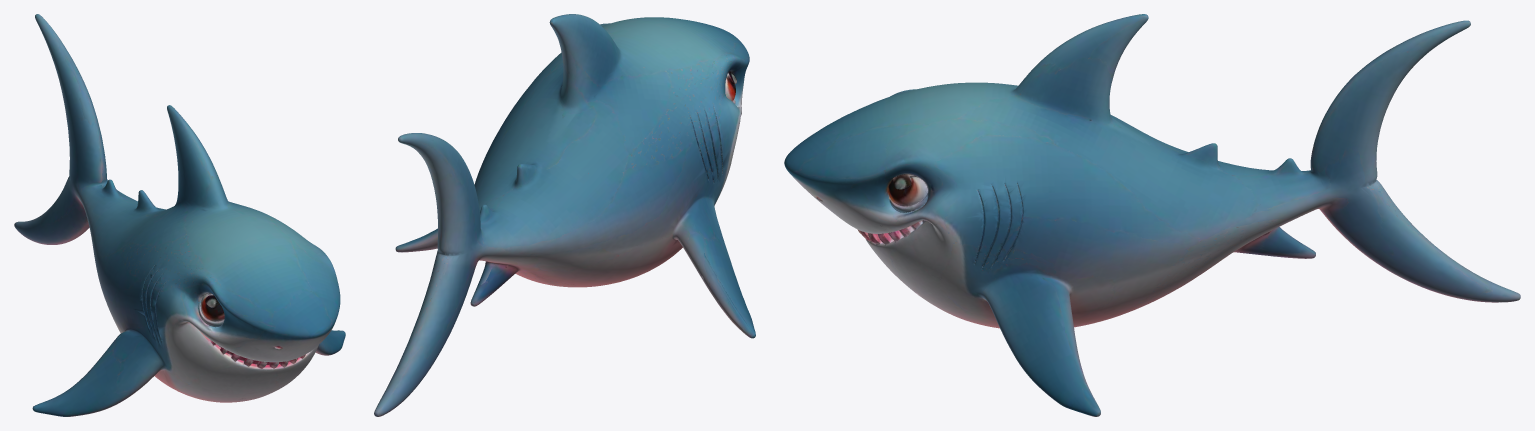
Rendered from shark-BO7wx5-a.glb.
3 views of the same model, side by side, from view 1: azimuth 30°, elevation 25°; view 2: azimuth 150°, elevation 25°; view 3: azimuth 270°, elevation 25° (orthographic). The views are drawn at different scales.
Visible parts, largest first — view 1: texture_pbr_v128; view 2: texture_pbr_v128; view 3: texture_pbr_v128.
Boxes of the visible parts, x1,y1,x2,y2 form: texture_pbr_v128: (14, 14, 345, 416); texture_pbr_v128: (374, 14, 755, 416); texture_pbr_v128: (784, 14, 1520, 416).
Bounding box in the file's own units: 0.673 × 0.5248 × 1.12.
Materials: 1 (1 with a texture image).
